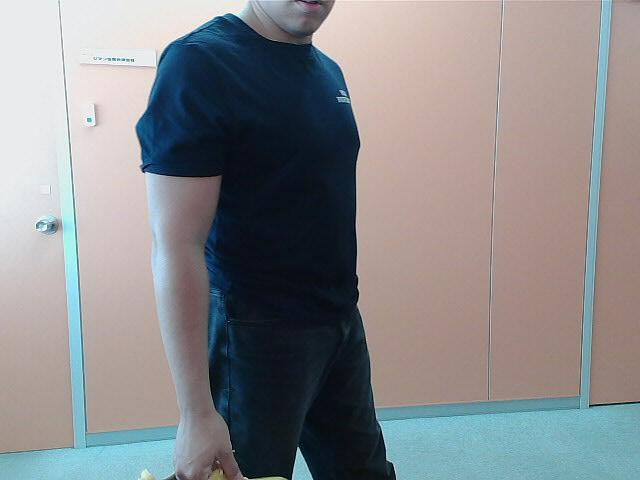Shoes: (127, 460, 296, 480)
